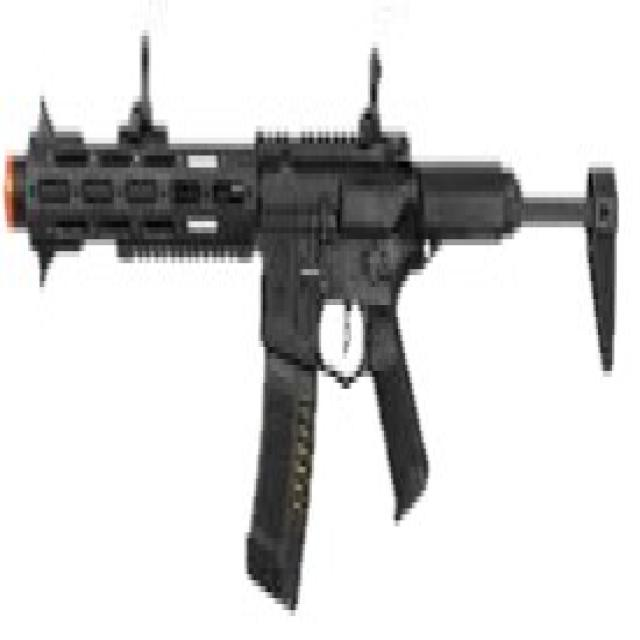rifle: (1, 25, 627, 611)
